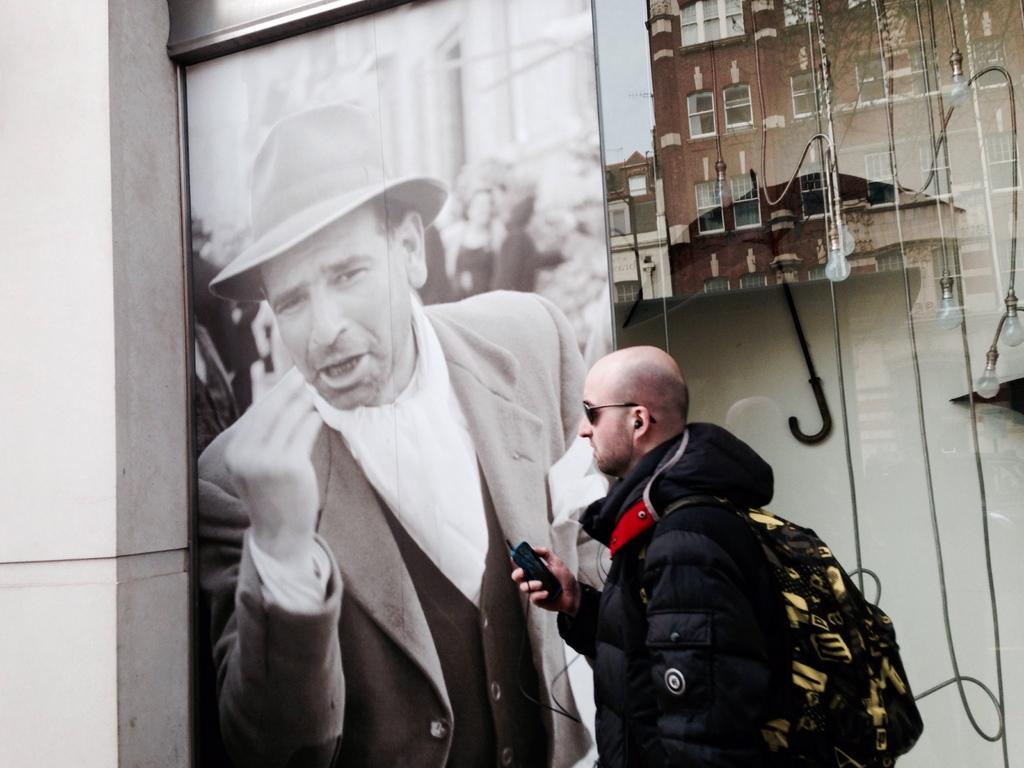Hat: (210, 102, 448, 307)
